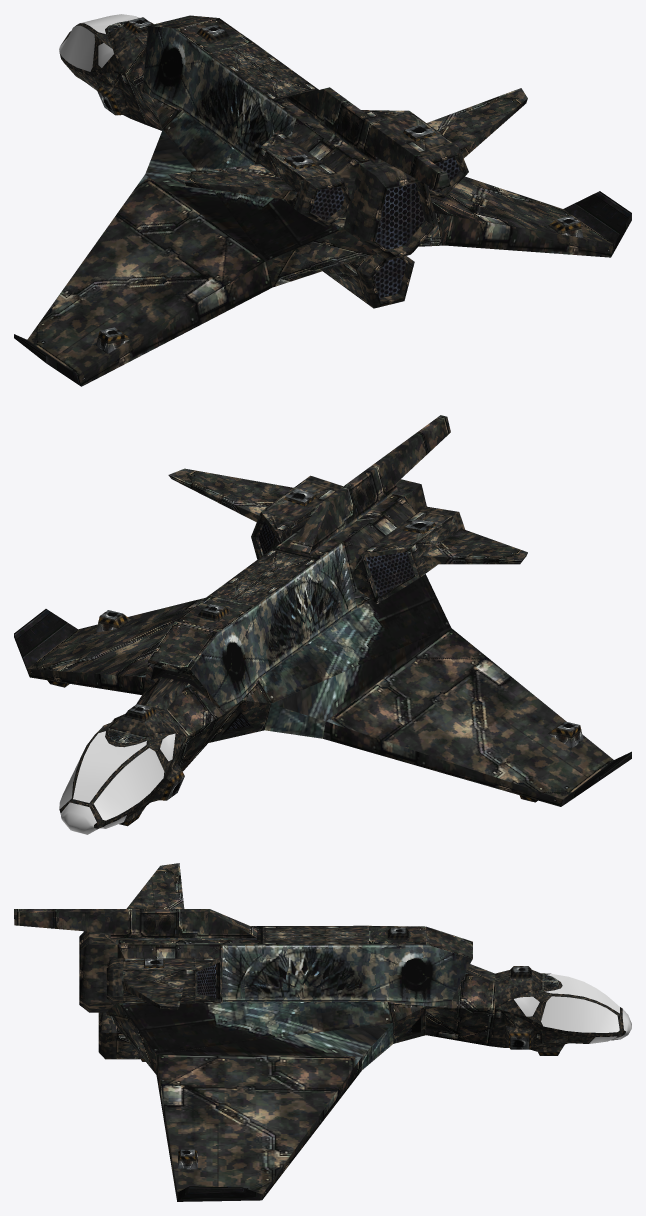
Rendered from 020E Apophis Mark II.fbx.
3 renders of one model, top to bottom at view 1: azimuth 30°, elevation 25°; view 2: azimuth 150°, elevation 25°; view 3: azimuth 270°, elevation 25°, orthographic. The views are drawn at different scales.
Parts seen in each view (by area): view 1: Hull - Left Wing, Hull, Hull - Engines, Hull - Right Wing, Hull - Aft Wings, Hull - Tail, Grill, Weaponplates, Auxwings, Glass, Hull - Baydoor Left, Hull - Baydoor Right; view 2: Hull, Hull - Left Wing, Hull - Engines, Hull - Right Wing, Glass, Hull - Tail, Hull - Aft Wings, Weaponplates, Auxwings, Grill, Hull - Baydoor Left, Hull - Baydoor Right; view 3: Hull, Hull - Right Wing, Hull - Engines, Hull - Tail, Glass, Hull - Aft Wings, Weaponplates, Auxwings, Hull - Baydoor Left, Hull - Baydoor Right, Grill.
Part boxes in pixels (<box>): Hull - Left Wing: <box>27,130,272,386</box>; Hull: <box>60,15,451,287</box>; Hull - Engines: <box>255,110,468,308</box>; Hull - Right Wing: <box>430,176,613,257</box>; Hull - Aft Wings: <box>168,88,527,200</box>; Hull - Tail: <box>287,87,450,189</box>; Grill: <box>311,157,460,298</box>; Weaponplates: <box>96,17,583,353</box>; Auxwings: <box>14,191,631,386</box>; Glass: <box>59,14,138,71</box>; Hull - Baydoor Left: <box>209,48,294,99</box>; Hull - Baydoor Right: <box>232,42,317,94</box>; Hull: <box>59,488,451,829</box>; Hull - Left Wing: <box>264,628,613,806</box>; Hull - Engines: <box>251,475,464,607</box>; Hull - Right Wing: <box>27,597,205,694</box>; Glass: <box>59,719,175,834</box>; Hull - Tail: <box>287,415,450,554</box>; Hull - Aft Wings: <box>168,468,527,564</box>; Weaponplates: <box>47,489,583,826</box>; Auxwings: <box>14,609,631,806</box>; Grill: <box>163,521,413,730</box>; Hull - Baydoor Left: <box>231,555,316,606</box>; Hull - Baydoor Right: <box>209,549,294,600</box>; Hull: <box>105,925,625,1074</box>; Hull - Right Wing: <box>156,1023,393,1201</box>; Hull - Engines: <box>79,931,222,1059</box>; Hull - Tail: <box>14,909,256,939</box>; Glass: <box>514,974,631,1043</box>; Hull - Aft Wings: <box>121,863,184,1009</box>; Weaponplates: <box>141,927,559,1169</box>; Auxwings: <box>177,1186,262,1201</box>; Hull - Baydoor Left: <box>263,925,368,935</box>; Hull - Baydoor Right: <box>263,935,368,944</box>; Grill: <box>197,964,411,1033</box>.
Size of the model in its own units: 227 by 81.26 by 248.
12 materials, 12 textured.
